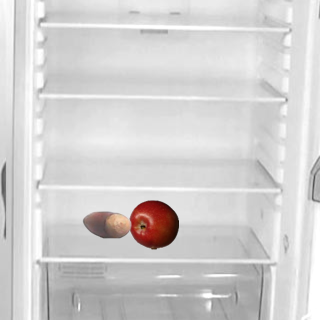Apple Braeburn: (128, 199, 178, 249)
Hazelnut: (81, 199, 131, 249)
